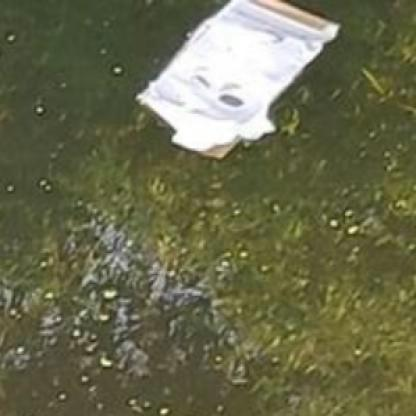Trash: (133, 1, 341, 161)
